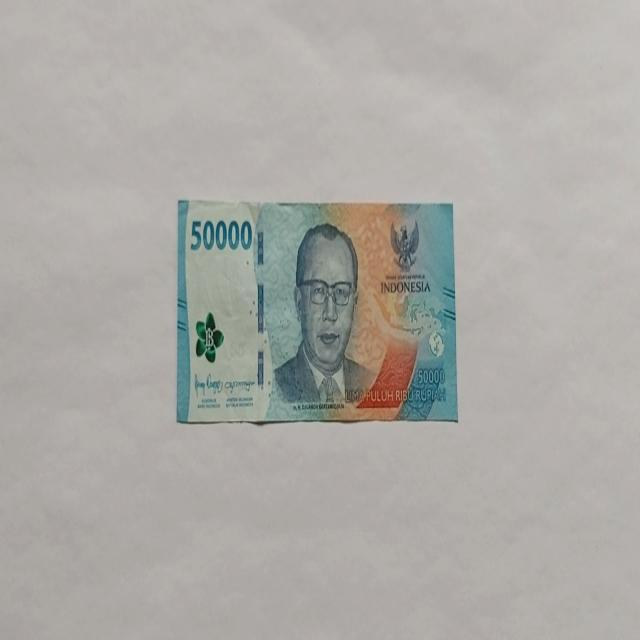lima puluh ribu rupiah: (175, 197, 458, 426), (268, 220, 378, 414)
